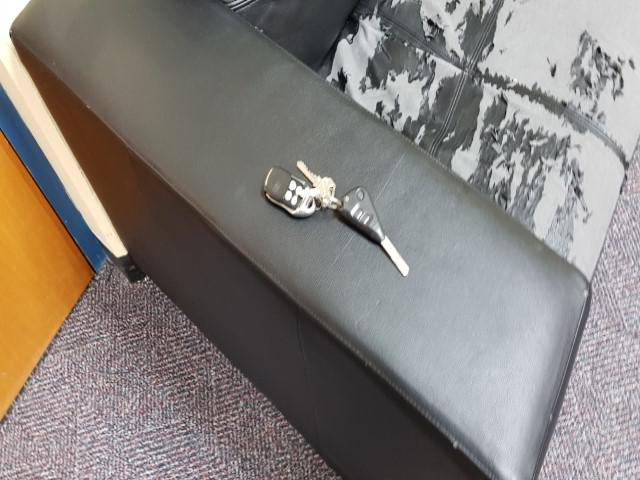key: (335, 186, 410, 276)
